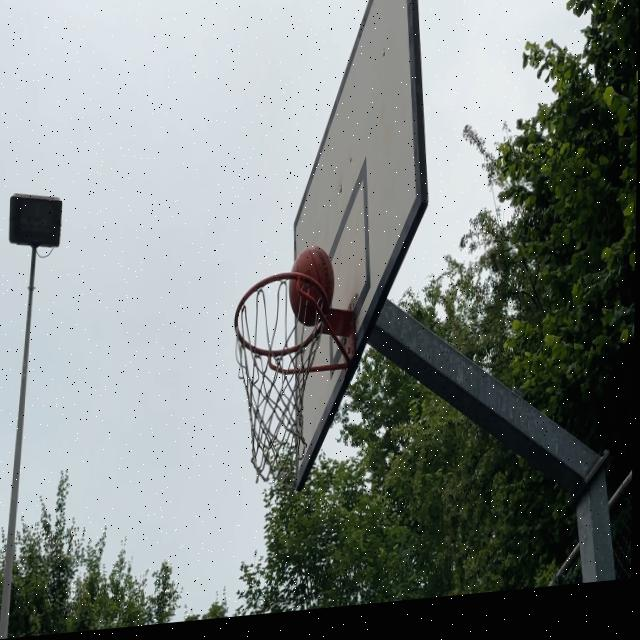rebound_hit: (289, 244, 335, 327)
